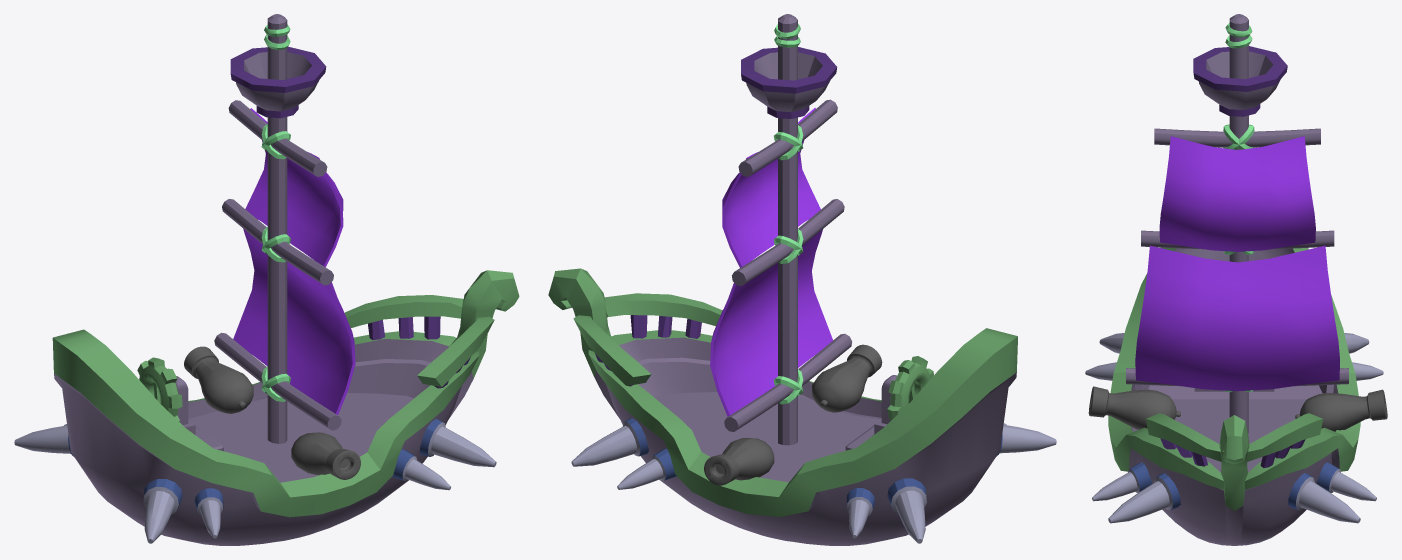
Rendered from nave spuntoni finale.fbx.
3 renders of one model, left to right at view 1: azimuth 30°, elevation 25°; view 2: azimuth 150°, elevation 25°; view 3: azimuth 270°, elevation 25°, orthographic. The views are drawn at different scales.
Parts seen in each view (by area): view 1: nave nemica.008; view 2: nave nemica.008; view 3: nave nemica.008.
Boxes of the visible parts, <box> form: nave nemica.008: <box>14,14,519,545</box>; nave nemica.008: <box>548,14,1056,545</box>; nave nemica.008: <box>1085,14,1387,545</box>.
Size of the model in its own units: 1433 by 1515 by 832.
